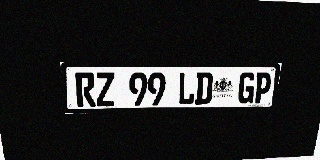9: (129, 72, 147, 106), (148, 72, 166, 105)
D: (195, 72, 213, 104)
G: (237, 72, 256, 104)
L: (177, 72, 196, 105)
P: (253, 72, 272, 103)
R: (75, 72, 96, 107)
Z: (95, 72, 115, 107)
